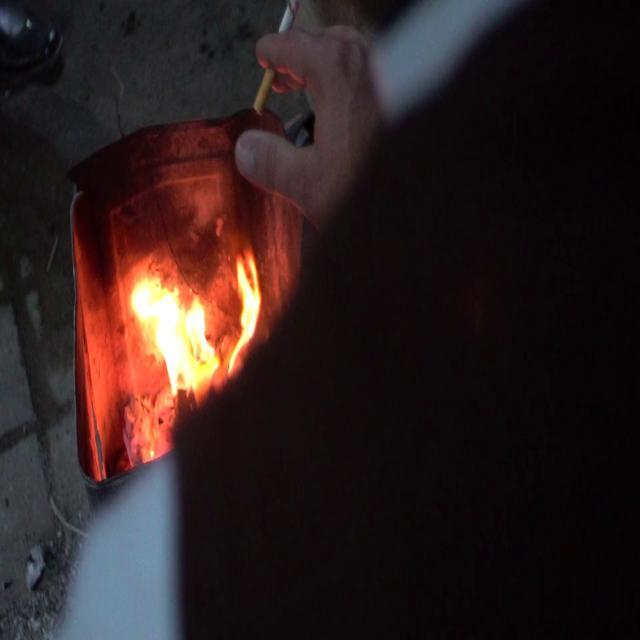Fire: (129, 270, 214, 390), (224, 250, 264, 370)
